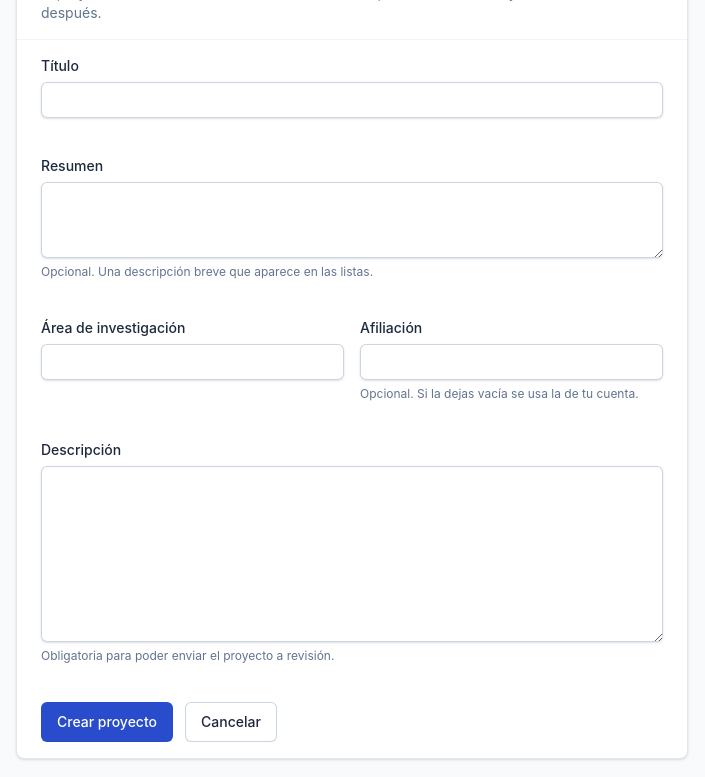
Test: create project › validates the title client-side and sends nothing
(page scrolled)
What coordinates should you click on to do the following:
click the button "Crear proyecto"
I would click on:
 (107, 722)
Its box is [41,702,173,742].
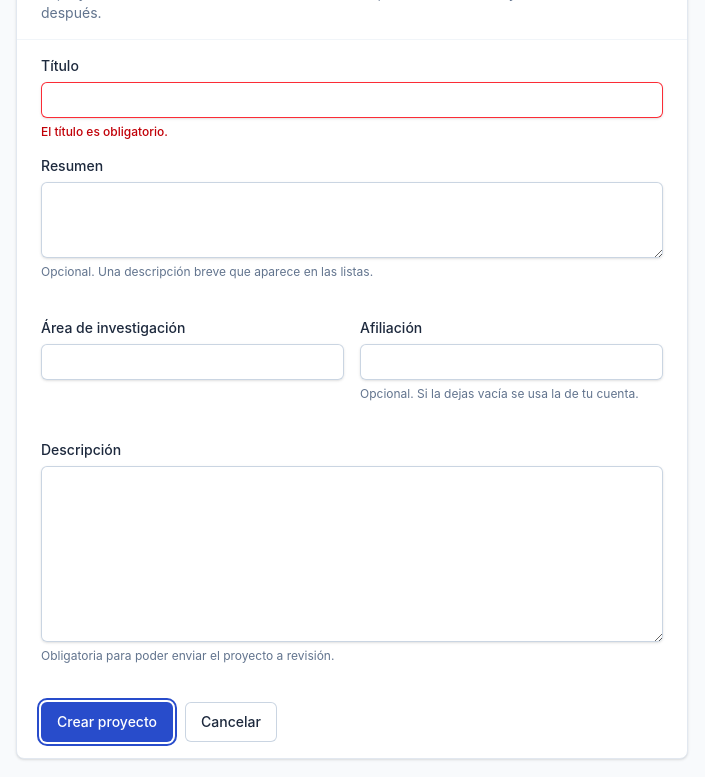
Now the text "El título es obligatorio." is shown, box [41,124,168,139]
